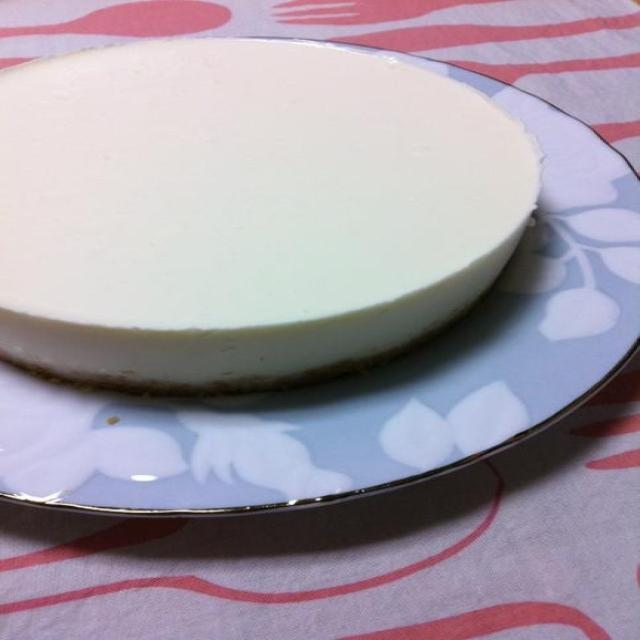面条主食: (24, 17, 629, 640)
